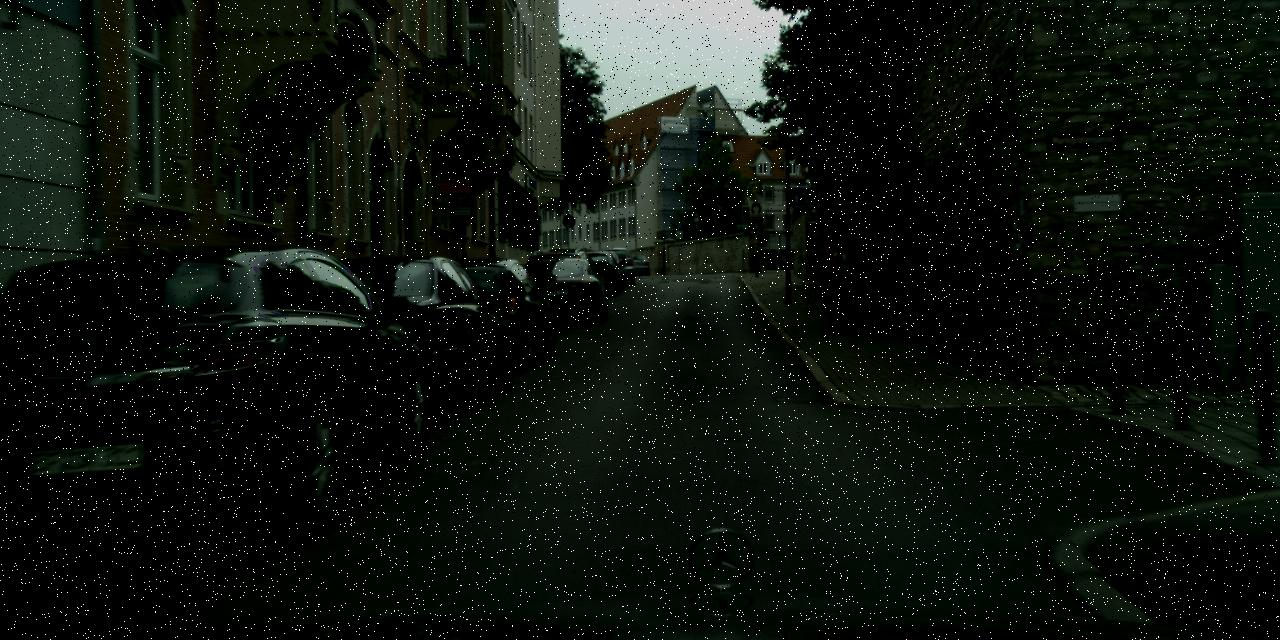ped: (814, 231, 853, 327)
